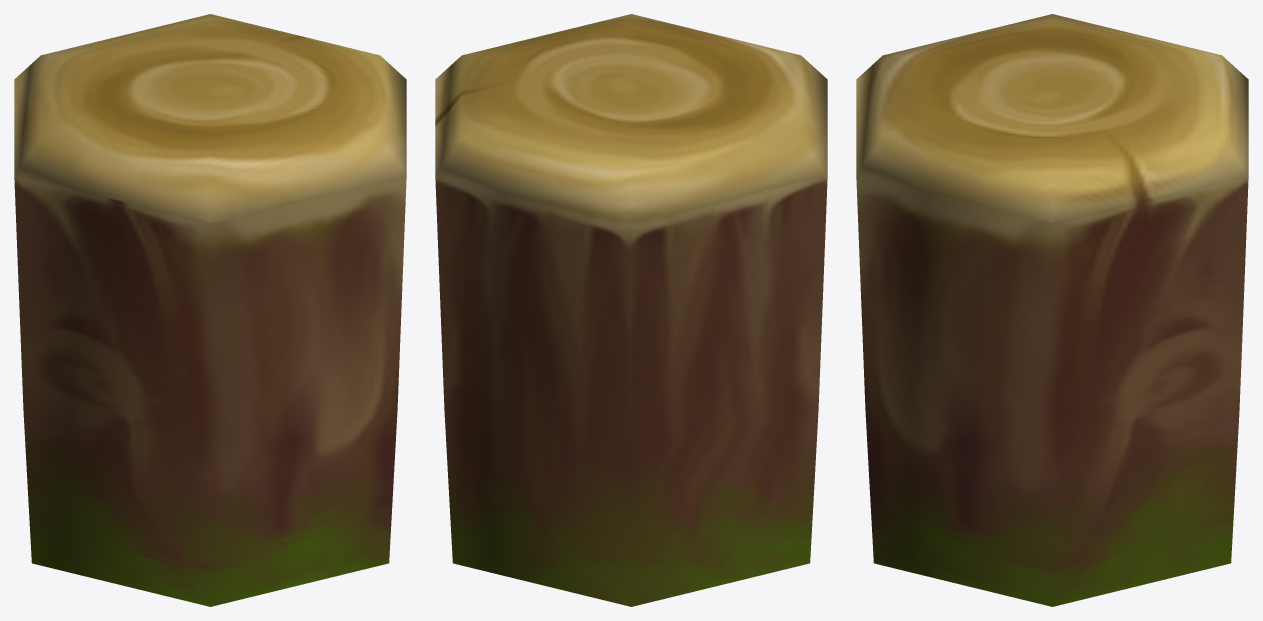
File: AGSL2_MuZhuangM_001.fbx
The picture shows the model from 3 angles, left to right: view 1: azimuth 30°, elevation 25°; view 2: azimuth 150°, elevation 25°; view 3: azimuth 270°, elevation 25°; orthographic projection.
Visible parts, largest first — view 1: AGSL2_MuZhuangM_001; view 2: AGSL2_MuZhuangM_001; view 3: AGSL2_MuZhuangM_001.
Part boxes in pixels (box(x1,y1,x2,y2)): AGSL2_MuZhuangM_001: box(14, 14, 406, 606); AGSL2_MuZhuangM_001: box(435, 14, 827, 606); AGSL2_MuZhuangM_001: box(856, 14, 1248, 606).
Size of the model in its own units: 132 by 139 by 114.
